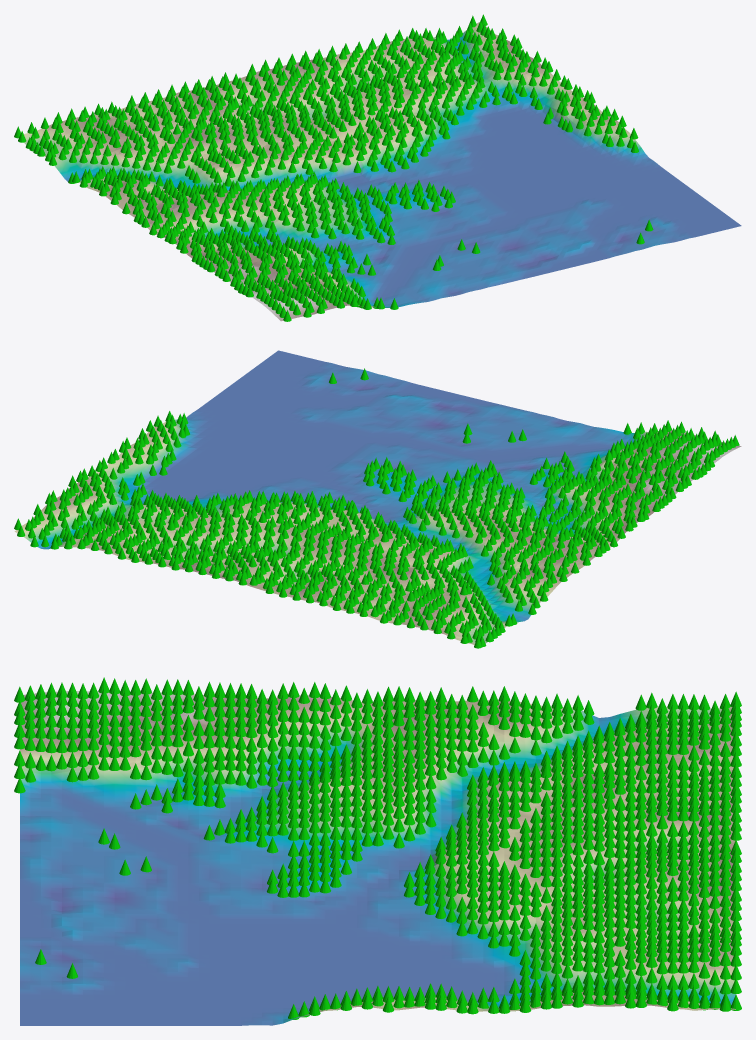
Rendered from 002834_with_tree.glb.
3 renders of one model, top to bottom at view 1: azimuth 30°, elevation 25°; view 2: azimuth 150°, elevation 25°; view 3: azimuth 270°, elevation 25°, orthographic. The views are drawn at different scales.
Parts seen in each view (by area): view 1: terrain, trees; view 2: terrain, trees; view 3: terrain, trees.
Boxes of the visible parts, x1,y1,x2,y2 form: terrain: (24, 22, 741, 321); trees: (14, 14, 653, 321); terrain: (14, 350, 741, 644); trees: (14, 368, 739, 648); terrain: (20, 691, 735, 1025); trees: (14, 677, 741, 1019).
Bounding box in the file's own units: 0.0189 × 0.00124 × 0.0186.
